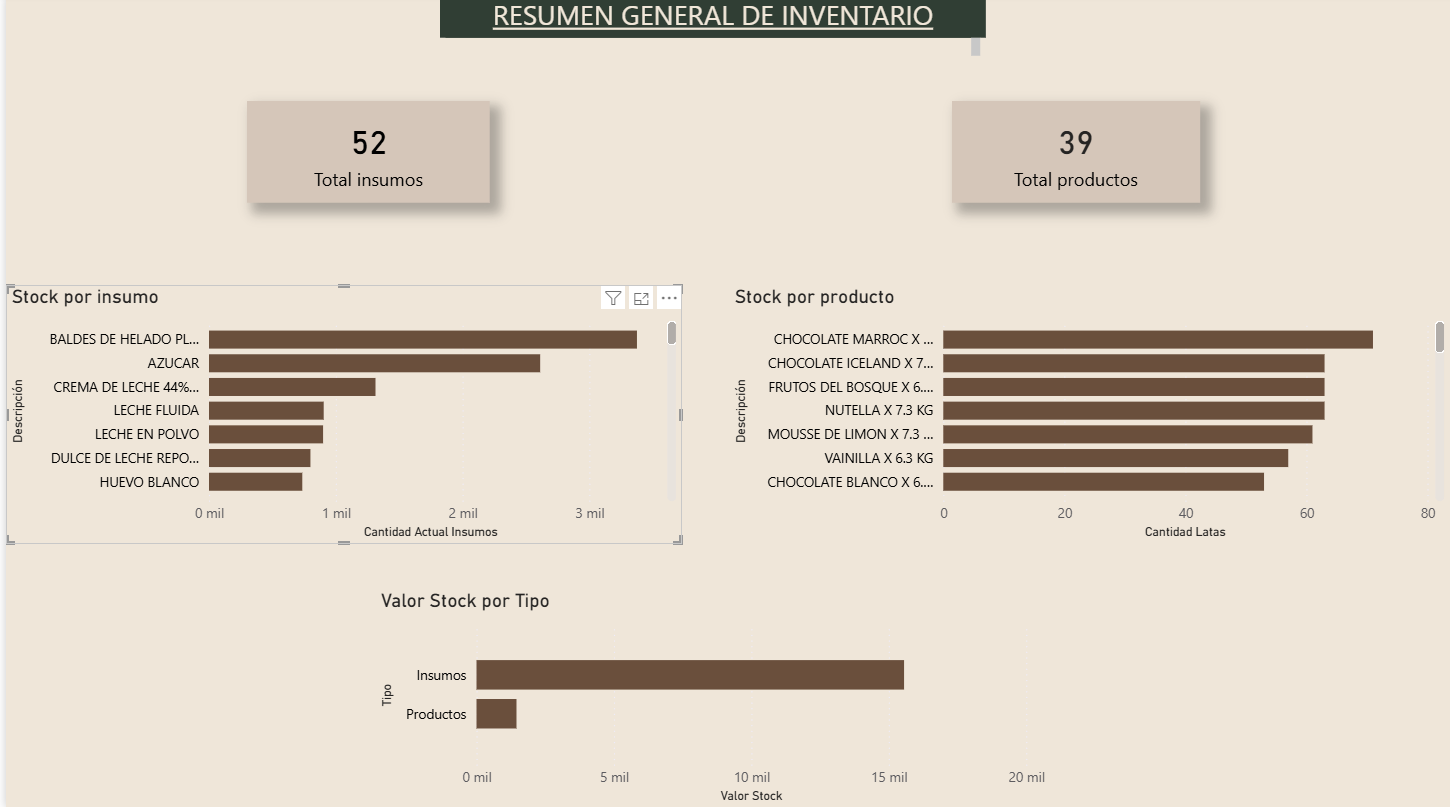

This screenshot's page, from the dashboard's own definition file:
{"tool":"powerbi","page":{"name":"Resumen General","canvas":[1280,720],"ordinal":2},"visuals":[{"type":"card","fields":{"Values":["CountNonNull(stock_latas.Código)"]},"box":[838.8,93.1,219.9,90.4],"z":0},{"type":"card","fields":{"Values":["CountNonNull(stock_insumos.Código)"]},"box":[213.7,93.1,215.5,90.4],"z":1},{"type":"barChart","title":"Stock por insumo","fields":{"Category":["stock_insumos.Descripción"],"Y":["Sum(stock_insumos.Cantidad Actual)"]},"box":[0,256.3,599.4,229.7],"z":2},{"type":"barChart","title":"Stock por producto","fields":{"Category":["stock_latas.Descripción"],"Y":["Sum(stock_latas.Cantidad (Latas))"]},"box":[641.1,256.3,639.3,229.7],"z":3},{"type":"barChart","fields":{"Category":["TipoStock.Tipo"],"Y":["TipoStock.Valor Stock"]},"box":[327.2,525.8,599.4,194.2],"z":4},{"type":"textbox","title":"RESUMEN GENERAL DE INVENTARIO","box":[384.8,0,484.1,57.6],"z":5}]}

Visuals, with their boxes in screenshot pixels (x1, y1, x2, y2), scaled from the page's 1280x720 canvas onto the 1450x807 screenshot:
card - CountNonNull(stock_latas.Código): [950,104,1199,206]
card - CountNonNull(stock_insumos.Código): [242,104,486,206]
"Stock por insumo" barChart: [0,287,679,545]
"Stock por producto" barChart: [726,287,1449,545]
barChart - TipoStock.Tipo x TipoStock.Valor Stock: [371,589,1050,806]
"RESUMEN GENERAL DE INVENTARIO" textbox: [436,0,984,65]
